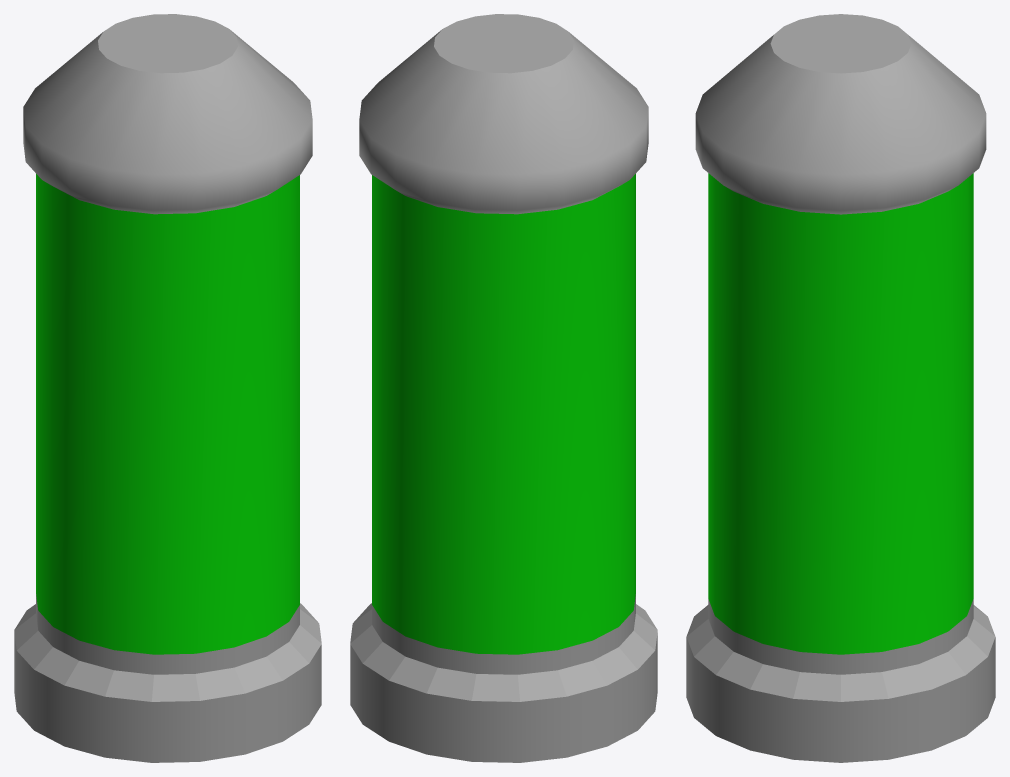
File: FetusTube.fbx
The picture shows the model from 3 angles, left to right: view 1: azimuth 30°, elevation 25°; view 2: azimuth 150°, elevation 25°; view 3: azimuth 270°, elevation 25°; orthographic projection.
Parts seen in each view (by area): view 1: pCylinder1; view 2: pCylinder1; view 3: pCylinder1.
Boxes of the visible parts, <box> form: pCylinder1: <box>14,14,321,762</box>; pCylinder1: <box>350,14,657,762</box>; pCylinder1: <box>686,14,995,762</box>.
Bounding box in the file's own units: 138 × 321 × 138.
